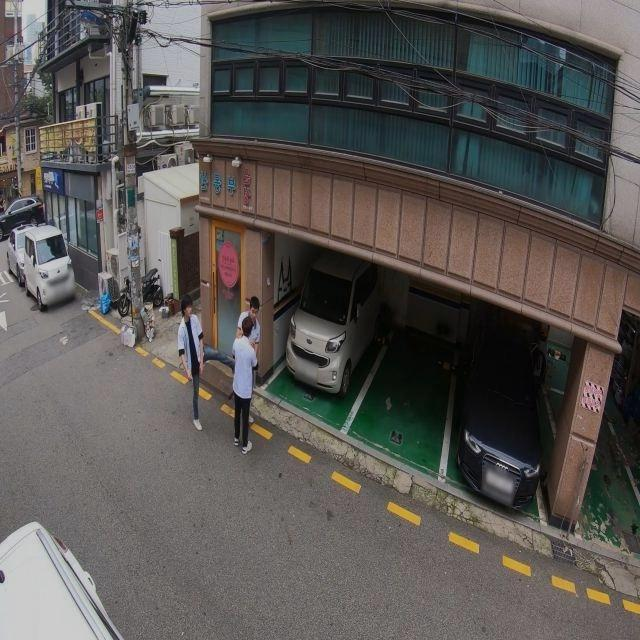fight: (228, 300, 260, 452)
non-fight: (177, 301, 205, 432)
